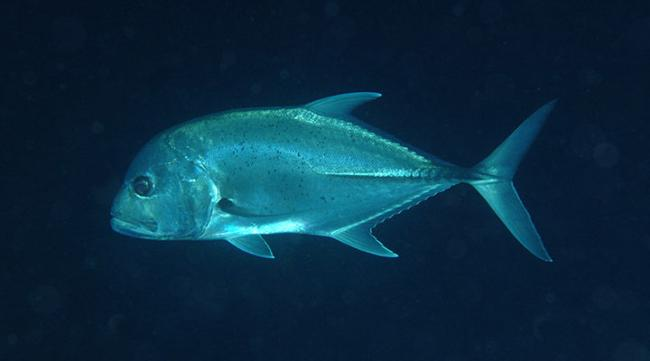fish: (111, 92, 555, 266)
